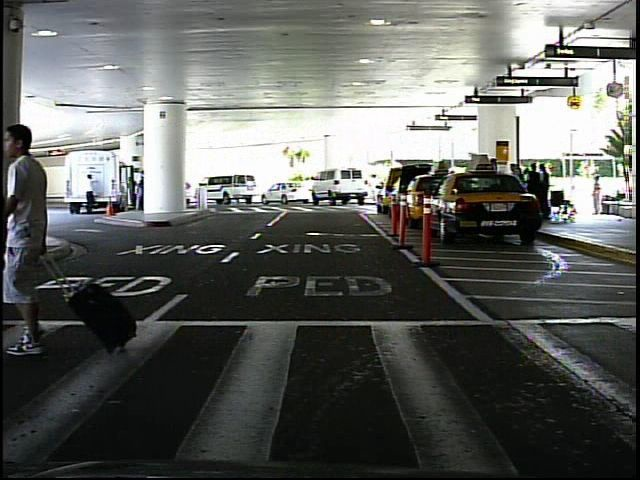person: (8, 112, 75, 359), (588, 172, 607, 218), (83, 172, 100, 215), (368, 169, 382, 203)
